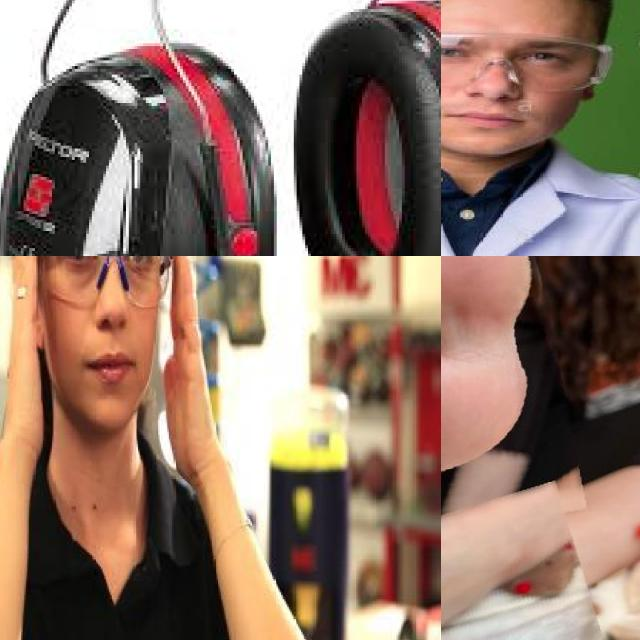Barefoots: (441, 256, 539, 476), (441, 481, 573, 640)
Ear-protection: (0, 0, 441, 256)
face_nomask: (48, 256, 155, 402), (441, 24, 568, 132)
glasses: (441, 27, 611, 95), (35, 256, 177, 314)
hand_noglove: (151, 256, 233, 497), (0, 256, 51, 454)
person: (0, 256, 262, 640), (441, 0, 640, 256)
